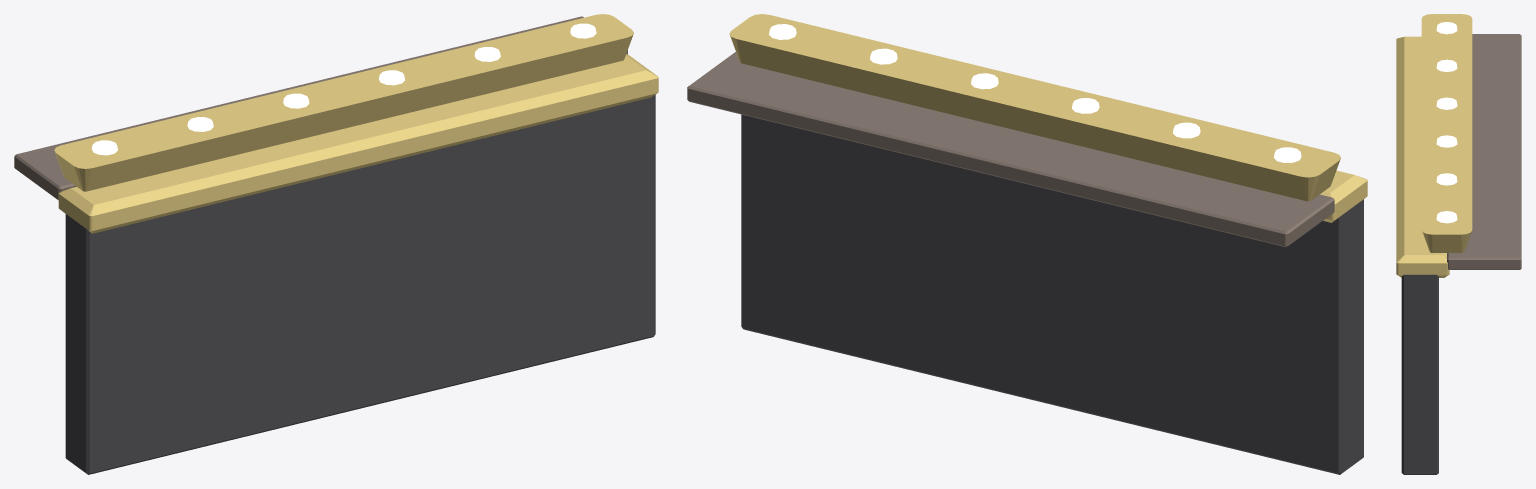
Rendered from theatre-stage-and-backstage-apron-edge-with-footlight--ae05f3d8__35874.glb.
3 views of the same model, side by side, from view 1: azimuth 30°, elevation 25°; view 2: azimuth 150°, elevation 25°; view 3: azimuth 270°, elevation 25° (orthographic). The views are drawn at different scales.
Visible parts, largest first — view 1: apron-edge-with-footlight-strip; view 2: apron-edge-with-footlight-strip; view 3: apron-edge-with-footlight-strip.
Part boxes in pixels (bbox=[...]): apron-edge-with-footlight-strip: bbox=[14, 14, 658, 474]; apron-edge-with-footlight-strip: bbox=[687, 14, 1367, 474]; apron-edge-with-footlight-strip: bbox=[1396, 14, 1521, 474].
Bounding box in the file's own units: 2 × 1 × 0.47.
